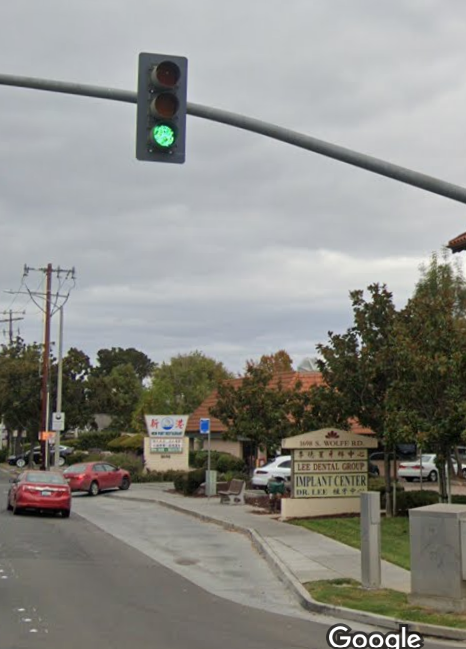green_light: (141, 50, 186, 160)
